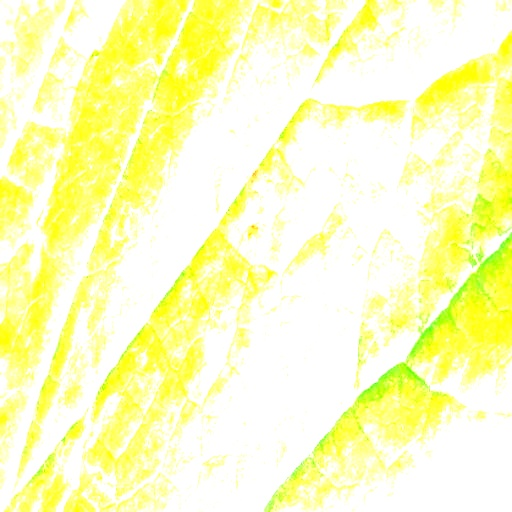Angular Leafspot: (166, 0, 511, 443)
